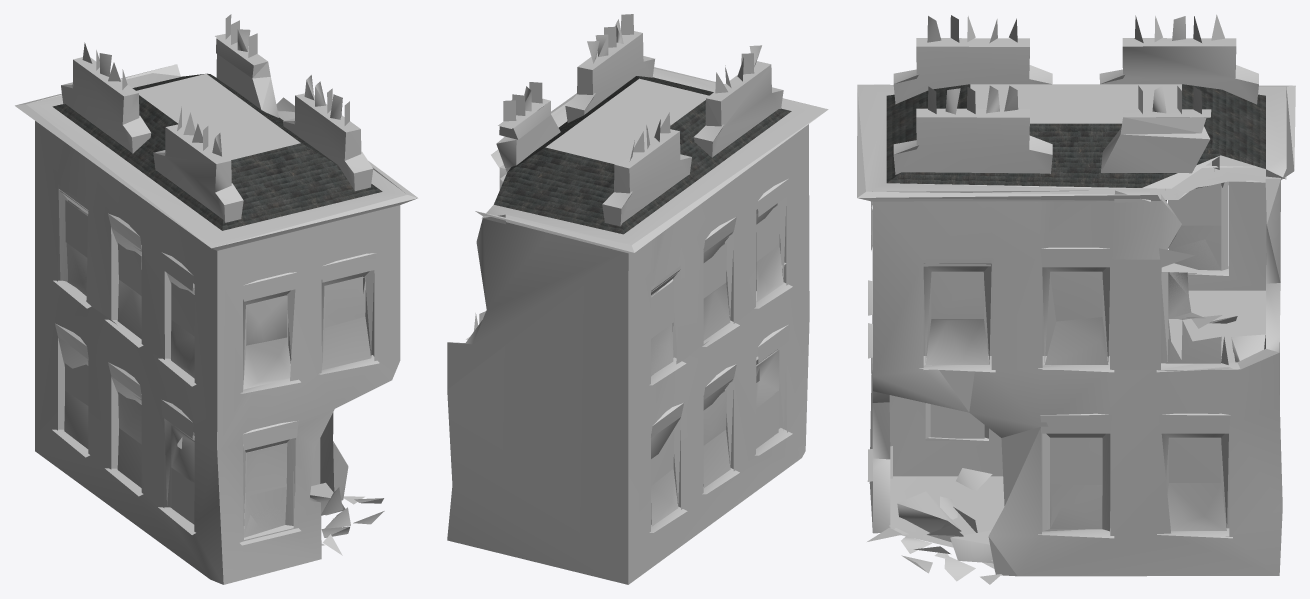
Rendered from Buildingbrick01_01.fbx.
The picture shows the model from 3 angles, left to right: view 1: azimuth 30°, elevation 25°; view 2: azimuth 150°, elevation 25°; view 3: azimuth 270°, elevation 25°; orthographic projection. The views are drawn at different scales.
Visible parts, largest first — view 1: LODGroup_3_MainMesh_1_SubMesh_3, LODGroup_3_MainMesh_1_SubMesh_1, LODGroup_3_MainMesh_1_SubMesh_6, LODGroup_3_MainMesh_1_SubMesh_5, LODGroup_3_MainMesh_1_SubMesh_2, LODGroup_3_MainMesh_1_SubMesh_4; view 2: LODGroup_3_MainMesh_1_SubMesh_3, LODGroup_3_MainMesh_1_SubMesh_1, LODGroup_3_MainMesh_1_SubMesh_6, LODGroup_3_MainMesh_1_SubMesh_5, LODGroup_3_MainMesh_1_SubMesh_4, LODGroup_3_MainMesh_1_SubMesh_2; view 3: LODGroup_3_MainMesh_1_SubMesh_3, LODGroup_3_MainMesh_1_SubMesh_1, LODGroup_3_MainMesh_1_SubMesh_6, LODGroup_3_MainMesh_1_SubMesh_5, LODGroup_3_MainMesh_1_SubMesh_2, LODGroup_3_MainMesh_1_SubMesh_4.
Boxes of the visible parts, x1,y1,x2,y2 form: LODGroup_3_MainMesh_1_SubMesh_3: (15,68,418,584); LODGroup_3_MainMesh_1_SubMesh_1: (55,14,376,537); LODGroup_3_MainMesh_1_SubMesh_6: (26,73,407,555); LODGroup_3_MainMesh_1_SubMesh_5: (52,73,382,230); LODGroup_3_MainMesh_1_SubMesh_2: (58,184,374,507); LODGroup_3_MainMesh_1_SubMesh_4: (32,64,404,515); LODGroup_3_MainMesh_1_SubMesh_3: (447,67,825,584); LODGroup_3_MainMesh_1_SubMesh_1: (474,14,789,526); LODGroup_3_MainMesh_1_SubMesh_6: (482,68,828,300); LODGroup_3_MainMesh_1_SubMesh_5: (494,76,791,234); LODGroup_3_MainMesh_1_SubMesh_4: (451,100,755,344); LODGroup_3_MainMesh_1_SubMesh_2: (651,204,786,524); LODGroup_3_MainMesh_1_SubMesh_3: (857,84,1295,584); LODGroup_3_MainMesh_1_SubMesh_1: (871,14,1258,531); LODGroup_3_MainMesh_1_SubMesh_6: (857,84,1286,568); LODGroup_3_MainMesh_1_SubMesh_5: (886,84,1265,187); LODGroup_3_MainMesh_1_SubMesh_2: (889,181,1266,536); LODGroup_3_MainMesh_1_SubMesh_4: (872,87,1294,576).
Size of the model in its own units: 567 by 1071 by 897.
